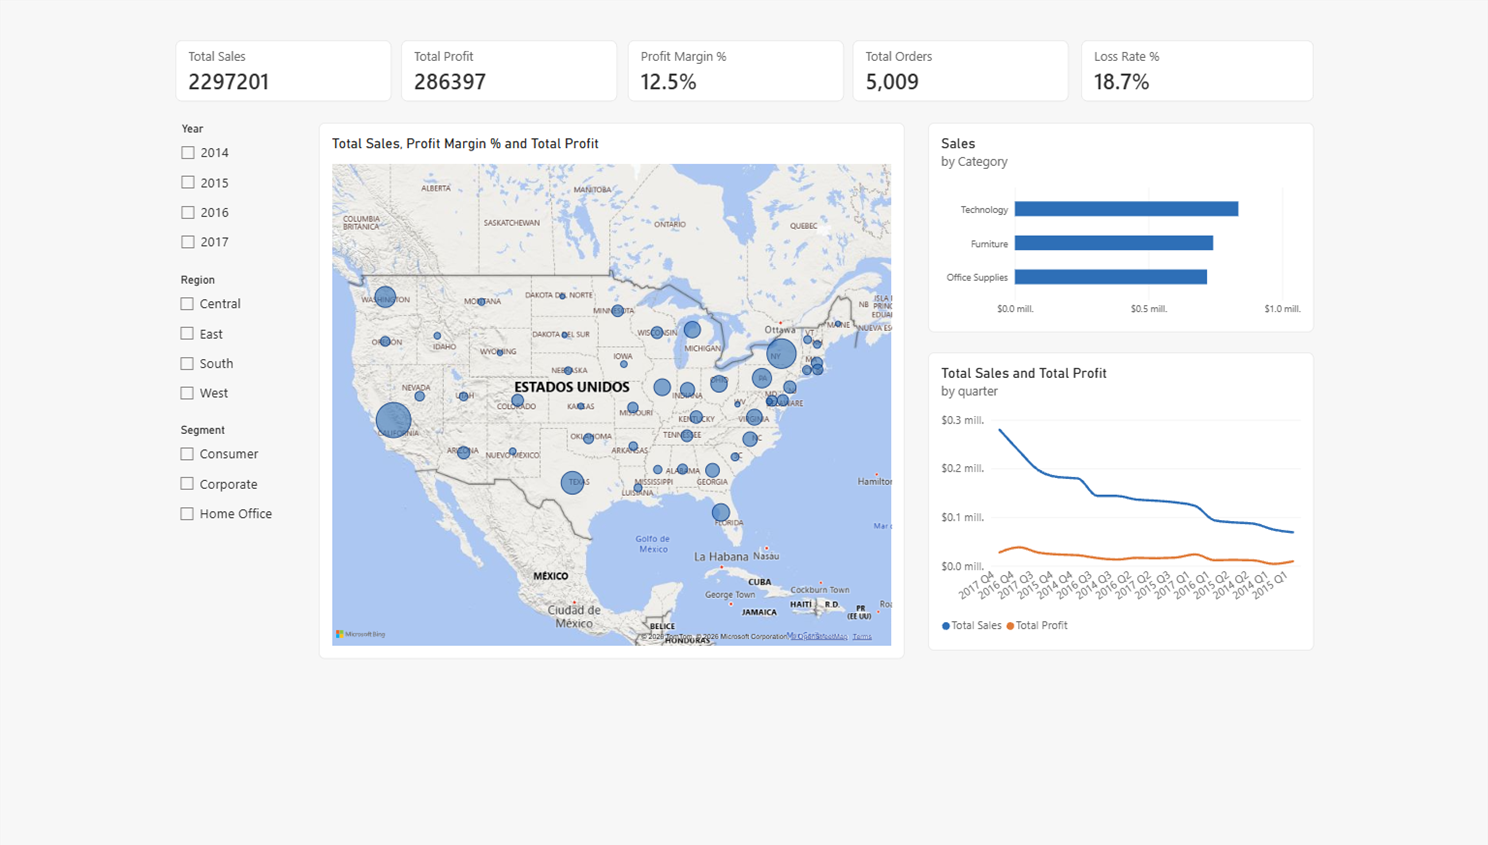

Layout of this report page (visuals, bound fields, positions):
{"tool":"powerbi","page":{"name":"Executive Overview","canvas":[1920,1080],"ordinal":0},"visuals":[{"type":"cardVisual","fields":{"Data":["_Measures.Total Sales"]},"box":[225.9,51.3,279.8,78.3],"z":0},{"type":"cardVisual","fields":{"Data":["_Measures.Total Profit"]},"box":[517.8,51.1,279.8,78.3],"z":1000},{"type":"cardVisual","fields":{"Data":["_Measures.Profit Margin %"]},"box":[809.8,51.3,279.8,78.3],"z":2000},{"type":"cardVisual","fields":{"Data":["_Measures.Total Orders"]},"box":[1099.9,51.3,279.8,78.3],"z":3000},{"type":"cardVisual","fields":{"Data":["_Measures.Loss Rate %"]},"box":[1395.1,51.3,300.3,78.3],"z":4000},{"type":"lineChart","title":"Total Sales and Total Profit","fields":{"Category":["DimDate.Year Quarter"],"Y":["_Measures.Total Sales","_Measures.Total Profit"]},"box":[1197.4,449.2,498,379.9],"z":5000},{"type":"map","title":"Total Sales, Profit Margin % and Total Profit","fields":{"Category":["DimGeography.State","DimGeography.Country"],"Size":["_Measures.Total Sales"]},"box":[411.1,156.7,755.9,682.8],"z":6000},{"type":"clusteredBarChart","title":"Sales","fields":{"Category":["DimProduct.Category"],"Y":["_Measures.Total Sales"]},"box":[1197.4,156.6,498,267],"z":7000},{"type":"slicer","fields":{"Values":["DimDate.Calendar Hierarchy.Year"]},"box":[226.2,156.2,150.2,173.3],"z":8000},{"type":"slicer","fields":{"Values":["DimGeography.Region"]},"box":[225,348.8,119.4,173.3],"z":9000},{"type":"slicer","fields":{"Values":["DimCustomer.Segment"]},"box":[225,540,152.7,148.9],"z":10000}]}

Visuals, with their boxes in screenshot pixels (x1, y1, x2, y2), scaled from the page's 1920x1080 canvas onto the 1488x845 screenshot:
cardVisual - _Measures.Total Sales: x1=175 y1=40 x2=392 y2=101
cardVisual - _Measures.Total Profit: x1=401 y1=40 x2=618 y2=101
cardVisual - _Measures.Profit Margin %: x1=628 y1=40 x2=844 y2=101
cardVisual - _Measures.Total Orders: x1=852 y1=40 x2=1069 y2=101
cardVisual - _Measures.Loss Rate %: x1=1081 y1=40 x2=1314 y2=101
"Total Sales and Total Profit" lineChart: x1=928 y1=351 x2=1314 y2=649
"Total Sales, Profit Margin % and Total Profit" map: x1=319 y1=123 x2=904 y2=657
"Sales" clusteredBarChart: x1=928 y1=123 x2=1314 y2=331
slicer - DimDate.Calendar Hierarchy.Year: x1=175 y1=122 x2=292 y2=258
slicer - DimGeography.Region: x1=174 y1=273 x2=267 y2=408
slicer - DimCustomer.Segment: x1=174 y1=422 x2=293 y2=539
